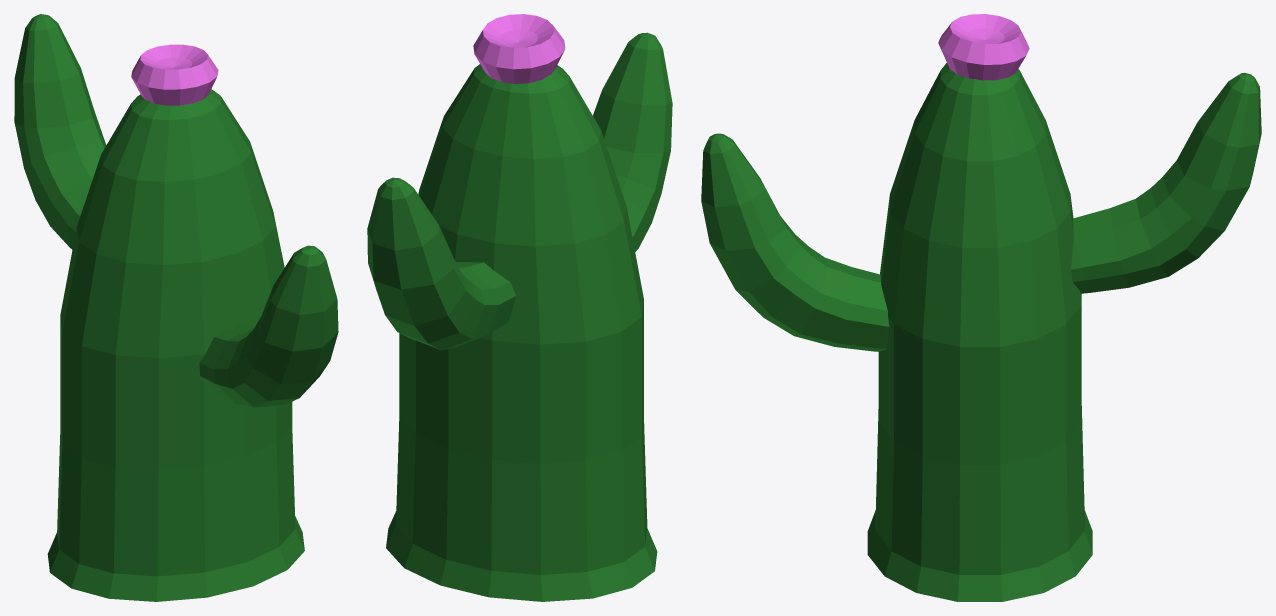
File: Mdl_Cactus_Large_.fbx
3 views of the same model, side by side, from view 1: azimuth 30°, elevation 25°; view 2: azimuth 150°, elevation 25°; view 3: azimuth 270°, elevation 25° (orthographic). The views are drawn at different scales.
Visible parts, largest first — view 1: Mdl_Cactus_Large_; view 2: Mdl_Cactus_Large_; view 3: Mdl_Cactus_Large_.
Part boxes in pixels (x1,y1,x2,y2): Mdl_Cactus_Large_: (14,14,338,601); Mdl_Cactus_Large_: (367,14,672,601); Mdl_Cactus_Large_: (701,14,1261,601).
Size of the model in its own units: 3.58 by 7.33 by 7.21.
